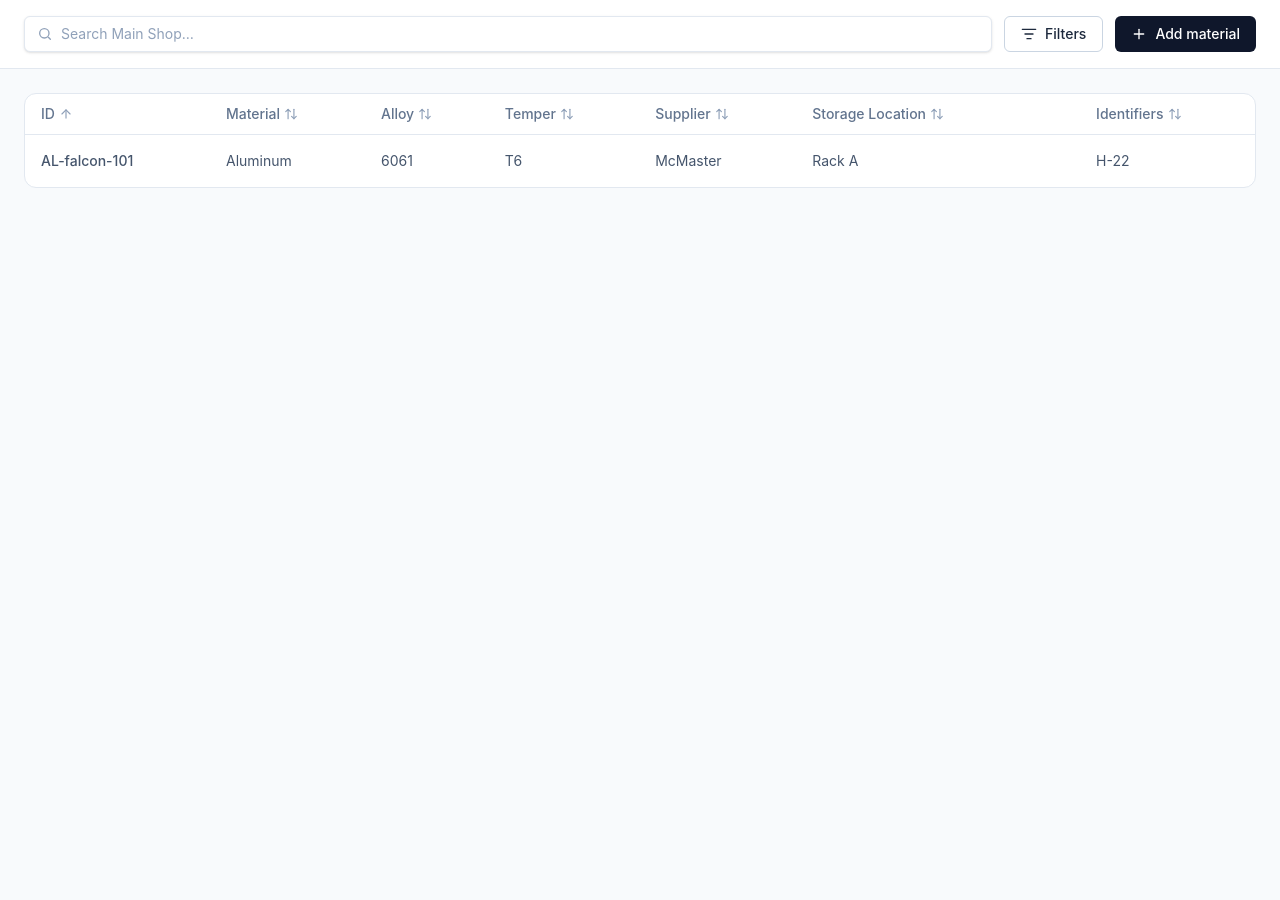
it: MaterialsWorkspace › defaults to active materials and can show archived via the filter checkbox
Expected: the text "AL-falcon-101" is shown, [41,150,133,170]
Expected: the text "AL-river-102" is not shown
Click the button with aria-label "Open filters": (1054, 34) [1004,16,1103,52]
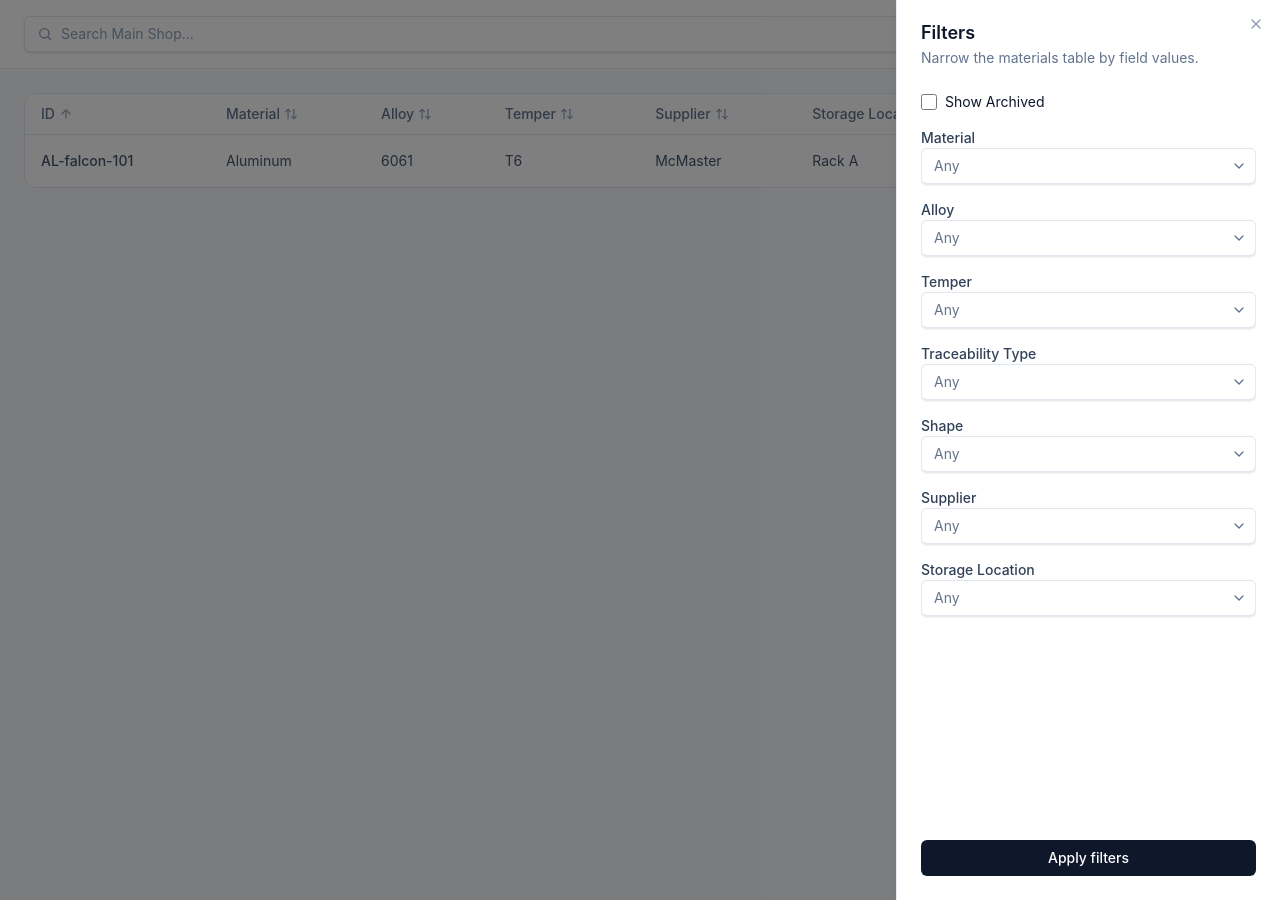
Click the checkbox labelled "Show Archived": (929, 102) [921,94,937,110]
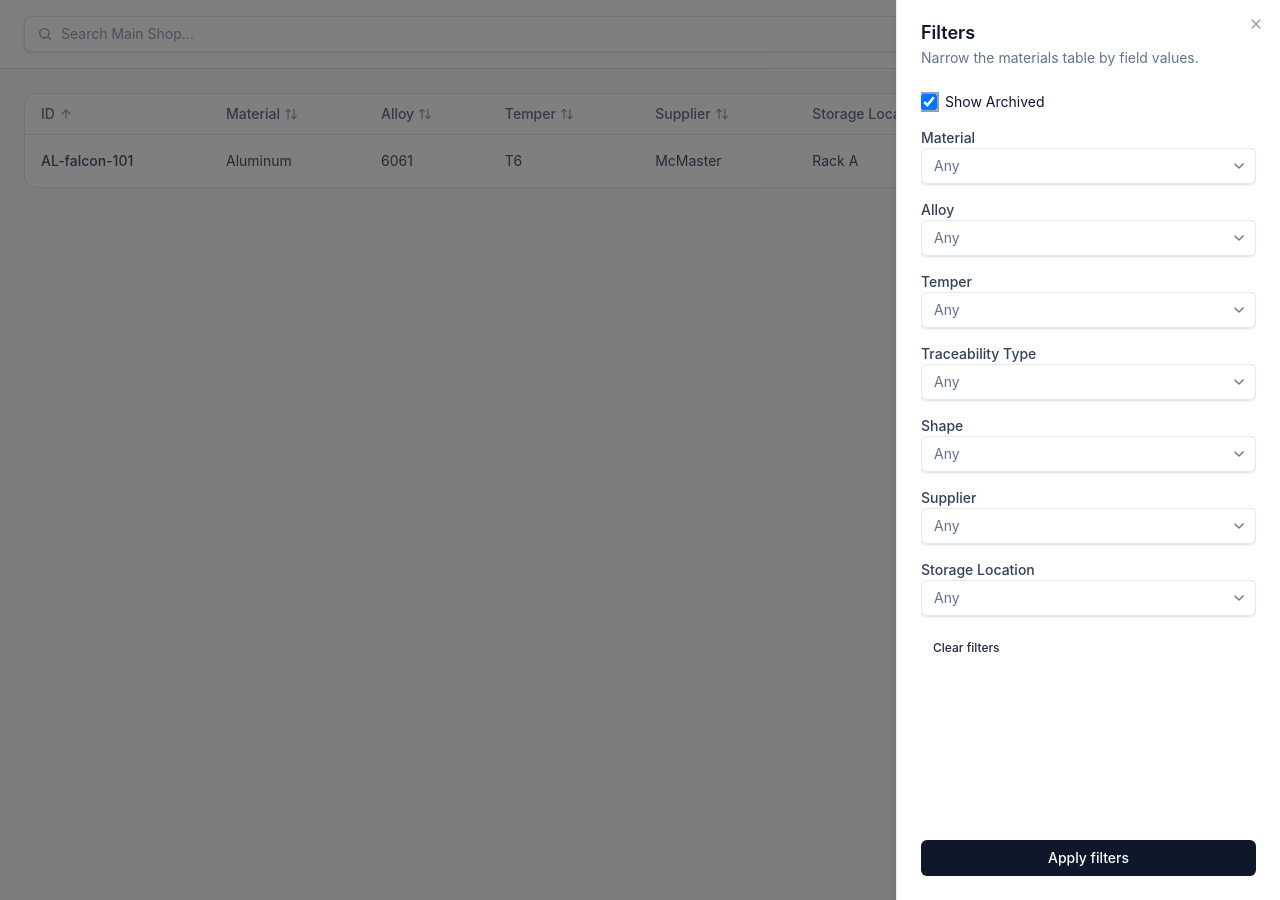
Click the button "Apply filters": (1088, 858) [921,840,1256,876]
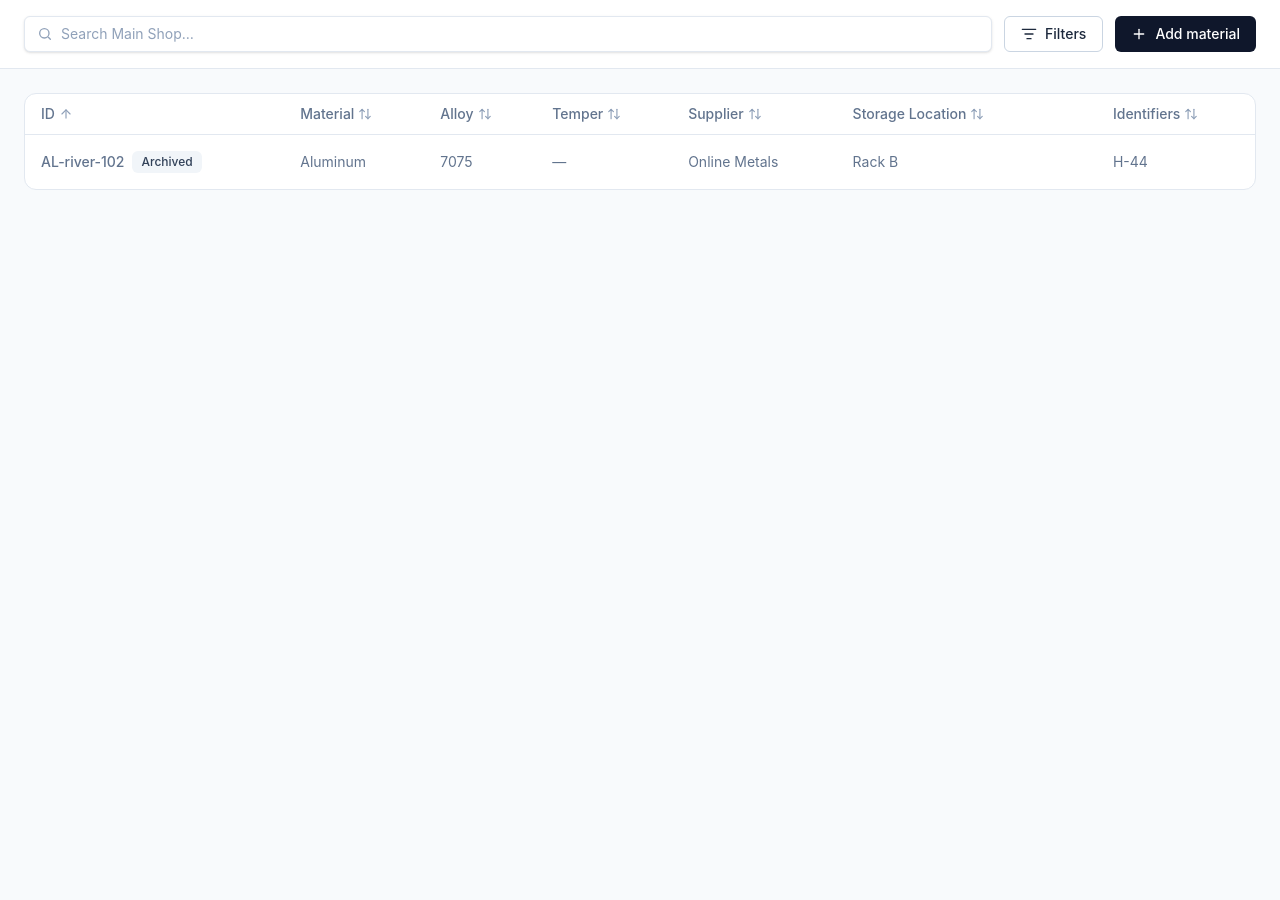
Result: the text "Archived" is shown at [132,150,202,172]
Result: the text "AL-river-102" is shown at [41,152,124,172]
Result: the text "AL-falcon-101" is gone
